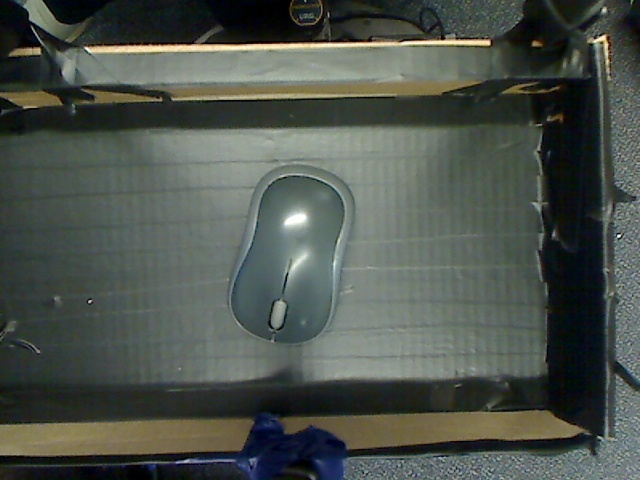mouse: (206, 151, 386, 356)
